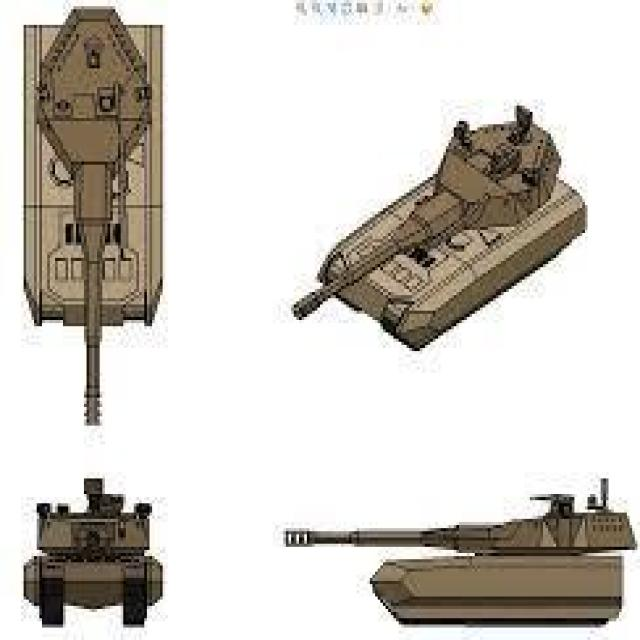Tanks: (282, 78, 576, 366), (18, 9, 170, 348), (273, 489, 577, 626), (26, 435, 163, 628)
